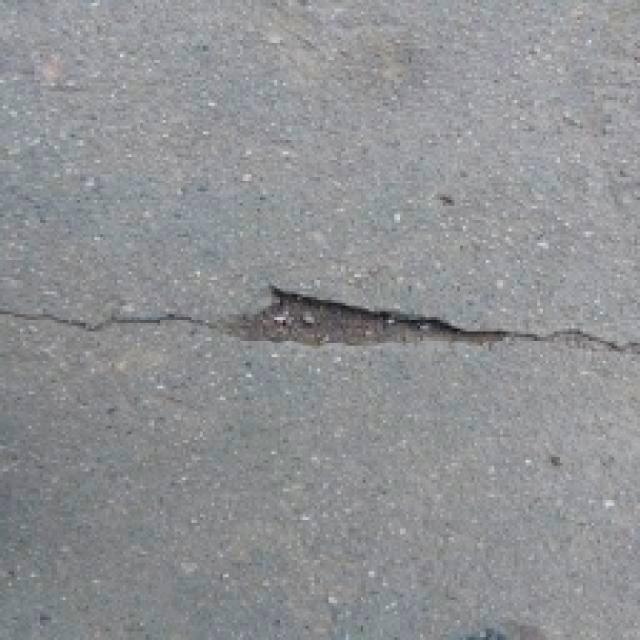SurfaceCrack: (6, 248, 640, 396)
